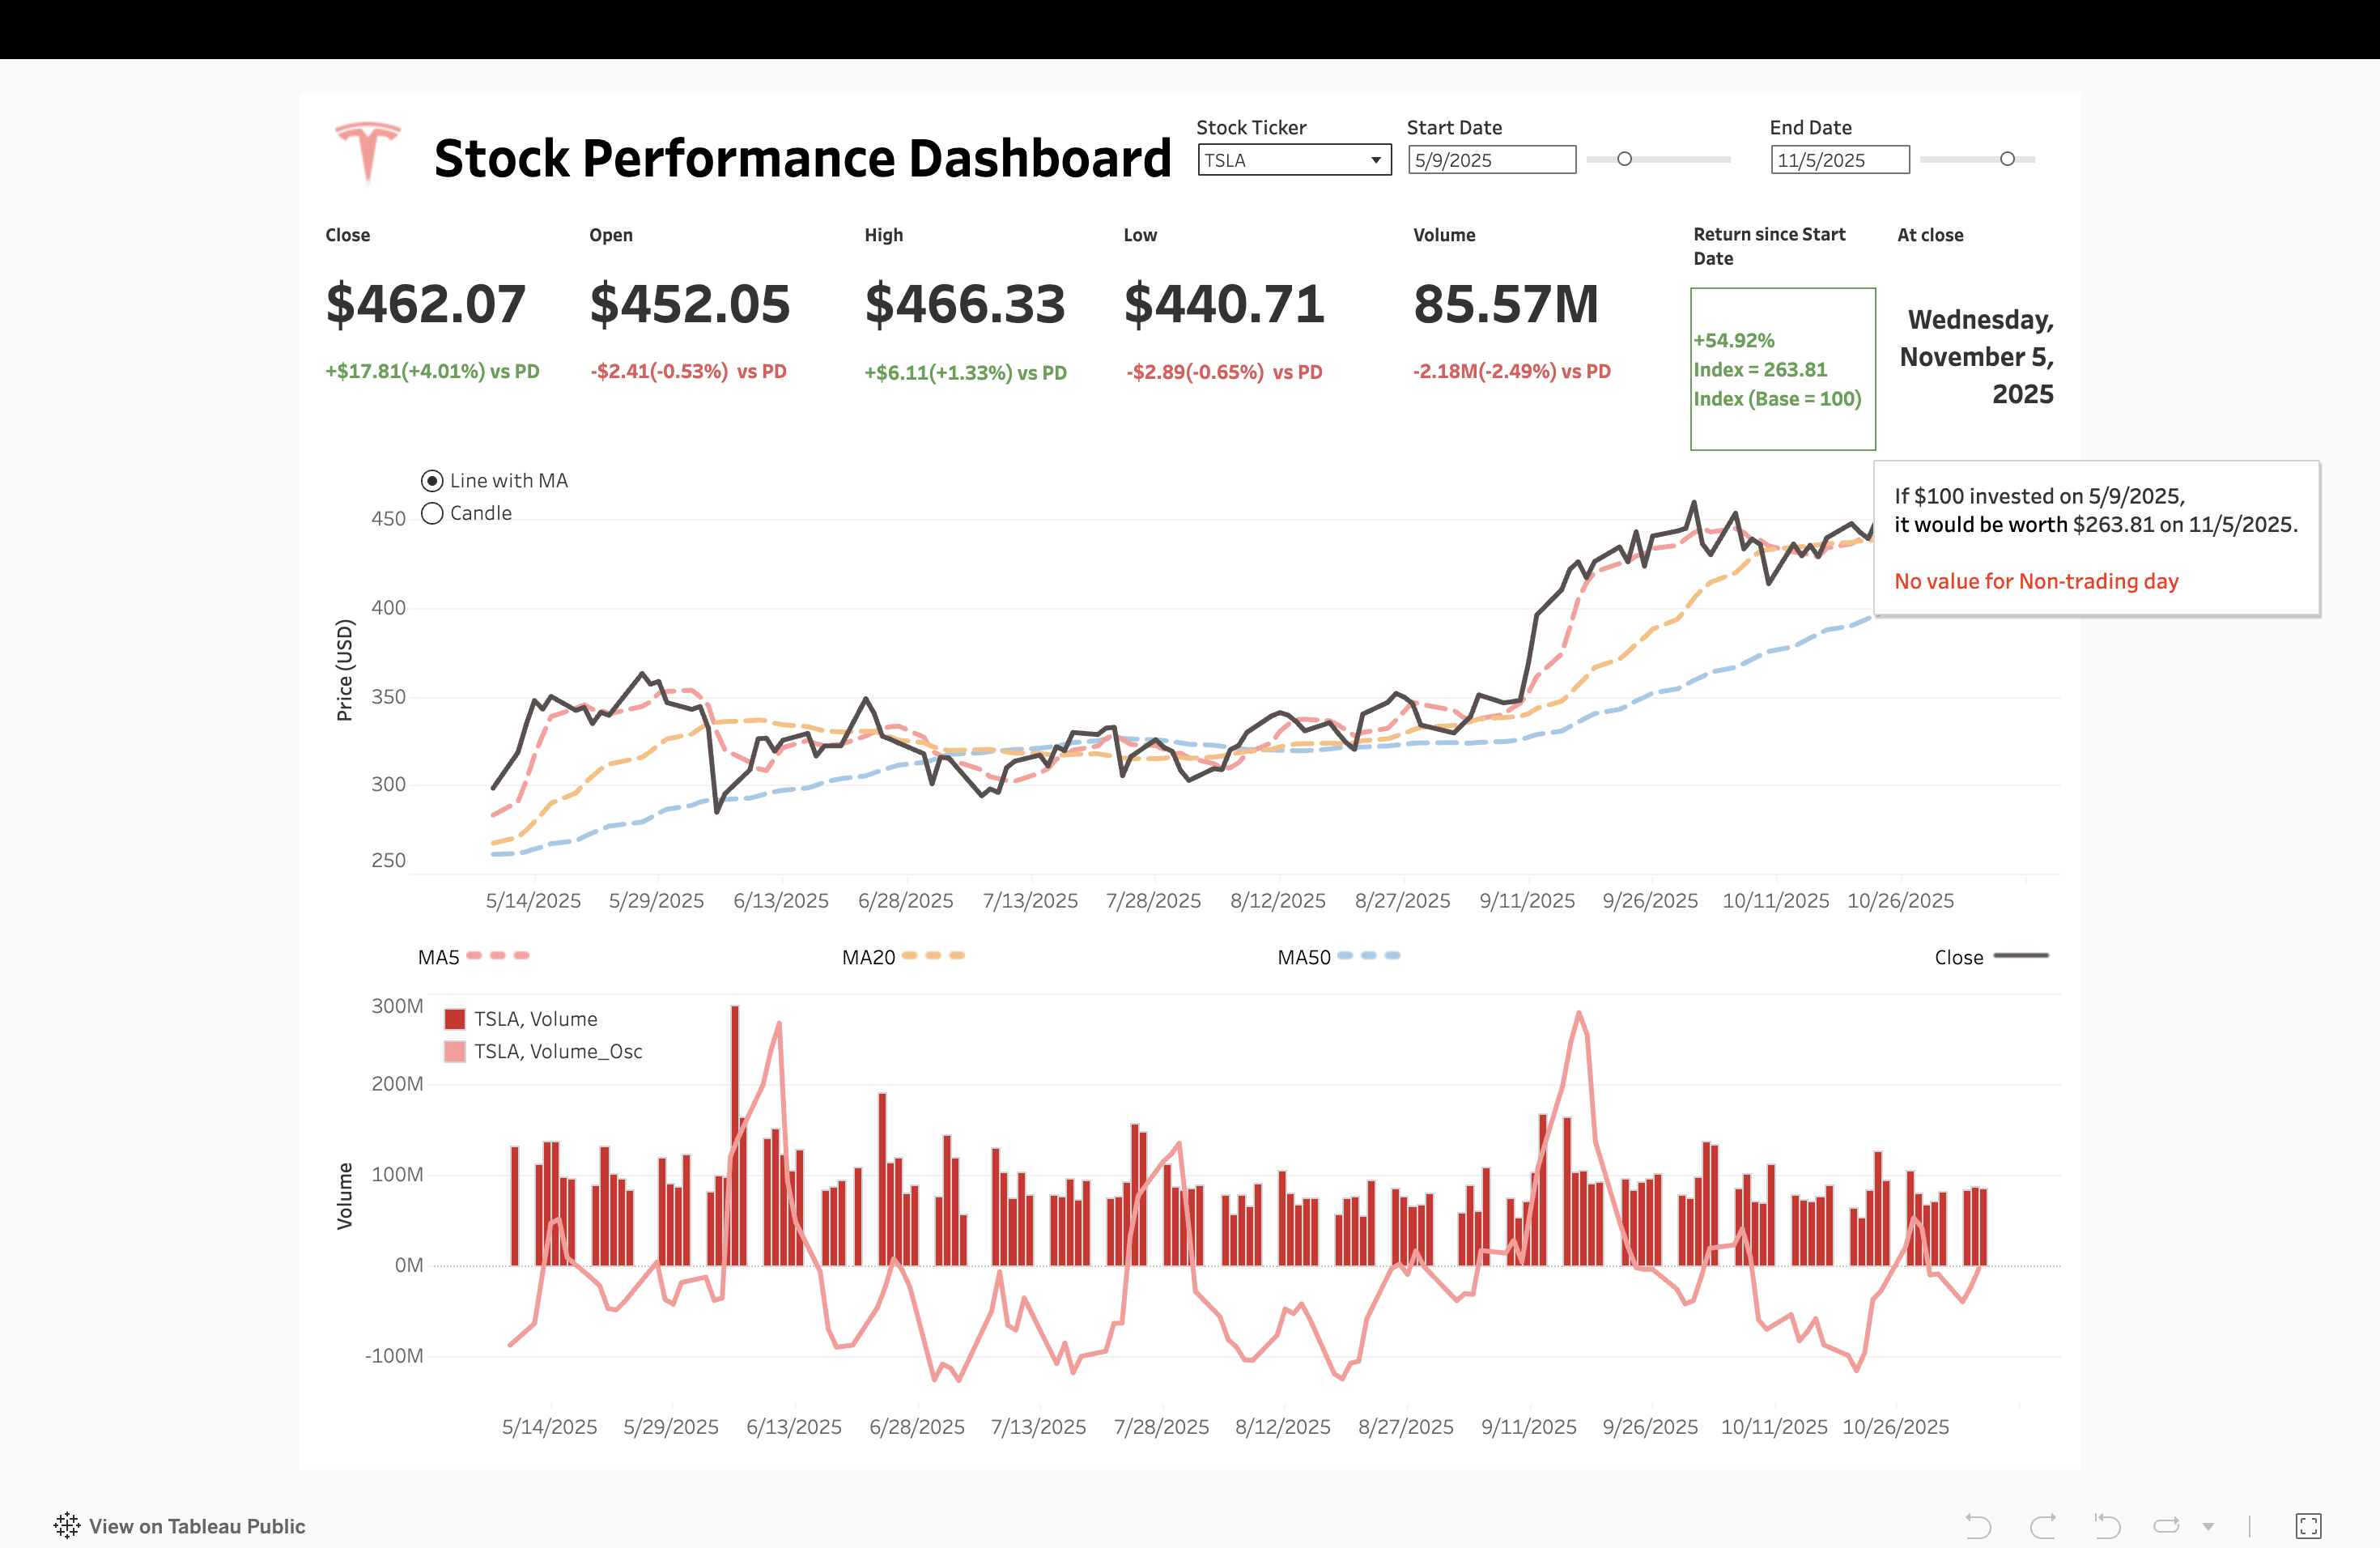

The page's visual inventory and layout, read from the dashboard file:
{"tool":"tableau","page":{"name":"Dashboard 2","canvas":[1100,850],"ordinal":0},"visuals":[{"type":"worksheet","title":"Logo","mark":"Shape","cols":["Table Name","Calculation_6930758386276937736"],"box":[8,8,71,61]},{"type":"text","box":[79,8,471,61]},{"type":"filter","title":"Close ","param":"[federated.0ad32sr0dxy0wy13120sg0xdmw02].[none:Table Name:nk]","box":[550,8,130,61]},{"type":"parameter","param":"[Parameters].[Parameter 1]","box":[680,8,224,61]},{"type":"parameter","param":"[Parameters].[Parameter 2]","box":[904,8,188,61]},{"type":"worksheet","title":"Close ","mark":"Automatic","box":[8,69,163,96.8]},{"type":"worksheet","title":"Open","mark":"Automatic","box":[171,69,170,96.2]},{"type":"worksheet","title":"High","mark":"Automatic","box":[341,69,160,96.2]},{"type":"worksheet","title":"Low","mark":"Automatic","box":[501,69,179,96.2]},{"type":"worksheet","title":"Volume","mark":"Automatic","box":[680,69,172.7,96.2]},{"type":"worksheet","title":"Return since Start Date","mark":"Automatic","box":[852.6,69,119.6,170]},{"type":"worksheet","title":"Last Day Text ","mark":"Automatic","box":[972.3,69,119.7,170]},{"type":"worksheet","title":"Open compare PD","mark":"Automatic","box":[171,165.2,170,73.8]},{"type":"worksheet","title":"High compare PD","mark":"Automatic","box":[341,165.2,160,73.8]},{"type":"worksheet","title":"Low compare PD","mark":"Automatic","box":[501,165.2,179,73.8]},{"type":"worksheet","title":"Volume compare PD","mark":"Automatic","box":[680,165.2,172.7,73.8]},{"type":"worksheet","title":"Close comapare PD","mark":"Automatic","box":[8,165.8,163,73.2]},{"type":"parameter","param":"[Parameters].[Parameter 3]","box":[71,229,121,46]},{"type":"worksheet","title":"Price with MA","mark":"Line","rows":["Close"],"cols":["Date"],"box":[8,239,1084,1]},{"type":"worksheet","title":"Legend","mark":"Shape","cols":["Close"],"box":[8,240,1084,32]},{"type":"worksheet","title":"Candle Stick","mark":"GanttBar","rows":["Open","High"],"cols":["Date"],"box":[8,272,1084,285]},{"type":"worksheet","title":"Volume bar","mark":"Bar","rows":["Volume","Volume_Osc"],"cols":["Date"],"box":[8,557,1084,285]}]}

Visuals, with their boxes on the page's 1100x850 design canvas (x1, y1, x2, y2). These are canvas units, not pixel positions in the 2380x1548 screenshot, which may show the page scaled, cropped or inside an application window:
"Logo" worksheet (Shape marks): locate(8, 8, 79, 69)
text: locate(79, 8, 550, 69)
"Close " filter: locate(550, 8, 680, 69)
parameter: locate(680, 8, 904, 69)
parameter: locate(904, 8, 1092, 69)
"Close " worksheet: locate(8, 69, 171, 166)
"Open" worksheet: locate(171, 69, 341, 165)
"High" worksheet: locate(341, 69, 501, 165)
"Low" worksheet: locate(501, 69, 680, 165)
"Volume" worksheet: locate(680, 69, 853, 165)
"Return since Start Date" worksheet: locate(853, 69, 972, 239)
"Last Day Text " worksheet: locate(972, 69, 1092, 239)
"Open compare PD" worksheet: locate(171, 165, 341, 239)
"High compare PD" worksheet: locate(341, 165, 501, 239)
"Low compare PD" worksheet: locate(501, 165, 680, 239)
"Volume compare PD" worksheet: locate(680, 165, 853, 239)
"Close comapare PD" worksheet: locate(8, 166, 171, 239)
parameter: locate(71, 229, 192, 275)
"Price with MA" worksheet (Line marks): locate(8, 239, 1092, 240)
"Legend" worksheet (Shape marks): locate(8, 240, 1092, 272)
"Candle Stick" worksheet (GanttBar marks): locate(8, 272, 1092, 557)
"Volume bar" worksheet (Bar marks): locate(8, 557, 1092, 842)
